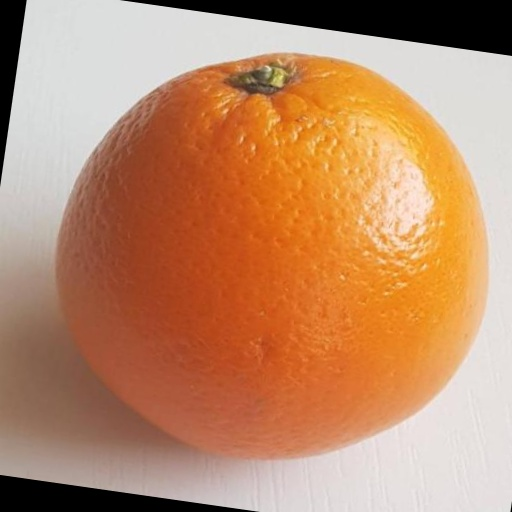fruit: (57, 54, 488, 458)
